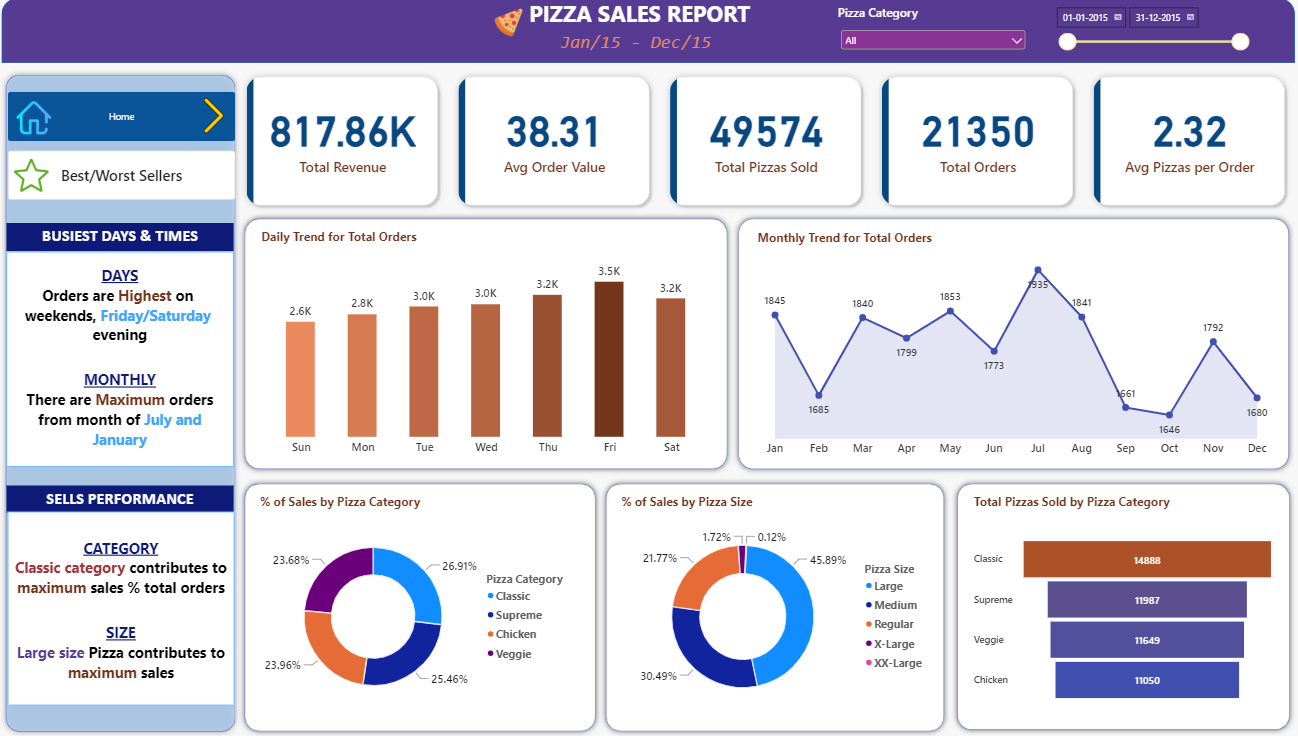

What the dashboard file says about the page in this screenshot:
{"tool":"powerbi","page":{"name":"Home","canvas":[1920,1080],"ordinal":0},"visuals":[{"type":"cardVisual","fields":{"Data":["Measures Table.Total Revenue","Measures Table.Avg Order Value","Measures Table.Total Pizzas Sold","Measures Table.Total Orders","Measures Table.Avg Pizzas per Order"]},"box":[364.3,102.9,1535.5,209.9],"z":0},{"type":"shape","box":[18.5,0,1881.3,94.7],"z":1000},{"type":"textbox","box":[750,0,390.9,48.2],"z":2000},{"type":"textbox","box":[830,47.3,230.5,47.3],"z":3000},{"type":"image","box":[734.4,7.4,42.3,57.1],"z":4000},{"type":"shape","box":[364.3,312.9,718.4,380.8],"z":5000},{"type":"columnChart","title":"Daily Trend for Total Orders","fields":{"Category":["pizza_sales.Order Day"],"Y":["Measures Table.Total Orders"]},"box":[380.8,327.3,687.5,352],"z":6000},{"type":"shape","box":[1082.7,312.9,817.2,380.8],"z":7000},{"type":"areaChart","title":"Monthly Trend for Total Orders","fields":{"Category":["pizza_sales.Order Month"],"Y":["Measures Table.Total Orders"]},"box":[1101.2,329.3,784.2,352],"z":8000},{"type":"shape","box":[364.3,697.8,526.9,376.7],"z":9000},{"type":"shape","box":[16.5,102.9,349.9,971.5],"z":10000},{"type":"shape","box":[889.2,697.8,508.4,376.7],"z":11000},{"type":"shape","box":[1399.7,697.8,500.2,374.6],"z":12000},{"type":"donutChart","title":"% of Sales by Pizza Category","fields":{"Category":["pizza_sales.pizza_category"],"Y":["Measures Table.Total Revenue"]},"box":[378.7,714.2,496.1,345.8],"z":13000},{"type":"donutChart","title":"% of Sales by Pizza Size","fields":{"Category":["pizza_sales.pizza_size"],"Y":["Measures Table.Total Revenue"]},"box":[903.6,714.2,481.6,345.8],"z":14000},{"type":"funnel","title":"Total Pizzas Sold by Pizza Category","fields":{"Category":["pizza_sales.pizza_category"],"Y":["Measures Table.Total Pizzas Sold"]},"box":[1416.1,712.2,469.3,345.8],"z":15000},{"type":"textbox","box":[26,326.6,330.3,41],"z":16000},{"type":"textbox","box":[26.4,368.2,330,312.7],"z":17000},{"type":"textbox","box":[26.1,708.3,330.4,39.1],"z":18000},{"type":"textbox","box":[26.8,747.2,329.3,282],"z":19000},{"type":"slicer","title":"Pizza Category","fields":{"Values":["pizza_sales.pizza_category"]},"box":[1234.5,8.2,278.2,79.1],"z":20000},{"type":"slicer","title":"Pizza Category","fields":{"Values":["pizza_sales.order_date"]},"box":[1545.5,8.2,290.9,79.1],"z":21000},{"type":"pageNavigator","box":[26.8,135.8,331.4,72],"z":22000},{"type":"pageNavigator","box":[26.8,222.3,331.4,72],"z":23000},{"type":"image","box":[298.5,146.1,57.6,51.5],"z":24000},{"type":"image","box":[39.1,148.2,50,50],"z":25000},{"type":"image","box":[37,232.6,50,50],"z":26000}]}

Visuals, with their boxes in screenshot pixels (x1, y1, x2, y2), scaled from the page's 1920x1080 canvas onto the 1298x736 screenshot:
cardVisual - Measures Table.Total Revenue x Measures Table.Avg Order Value: (left=246, top=70, right=1284, bottom=213)
shape: (left=13, top=0, right=1284, bottom=65)
textbox: (left=507, top=0, right=771, bottom=33)
textbox: (left=561, top=32, right=717, bottom=64)
image: (left=496, top=5, right=525, bottom=44)
shape: (left=246, top=213, right=732, bottom=473)
"Daily Trend for Total Orders" columnChart: (left=257, top=223, right=722, bottom=463)
shape: (left=732, top=213, right=1284, bottom=473)
"Monthly Trend for Total Orders" areaChart: (left=744, top=224, right=1275, bottom=464)
shape: (left=246, top=476, right=602, bottom=732)
shape: (left=11, top=70, right=248, bottom=732)
shape: (left=601, top=476, right=945, bottom=732)
shape: (left=946, top=476, right=1284, bottom=731)
"% of Sales by Pizza Category" donutChart: (left=256, top=487, right=591, bottom=722)
"% of Sales by Pizza Size" donutChart: (left=611, top=487, right=936, bottom=722)
"Total Pizzas Sold by Pizza Category" funnel: (left=957, top=485, right=1275, bottom=721)
textbox: (left=18, top=223, right=241, bottom=251)
textbox: (left=18, top=251, right=241, bottom=464)
textbox: (left=18, top=483, right=241, bottom=509)
textbox: (left=18, top=509, right=241, bottom=701)
"Pizza Category" slicer: (left=835, top=6, right=1023, bottom=59)
"Pizza Category" slicer: (left=1045, top=6, right=1241, bottom=59)
pageNavigator: (left=18, top=93, right=242, bottom=142)
pageNavigator: (left=18, top=151, right=242, bottom=201)
image: (left=202, top=100, right=241, bottom=135)
image: (left=26, top=101, right=60, bottom=135)
image: (left=25, top=159, right=59, bottom=193)
